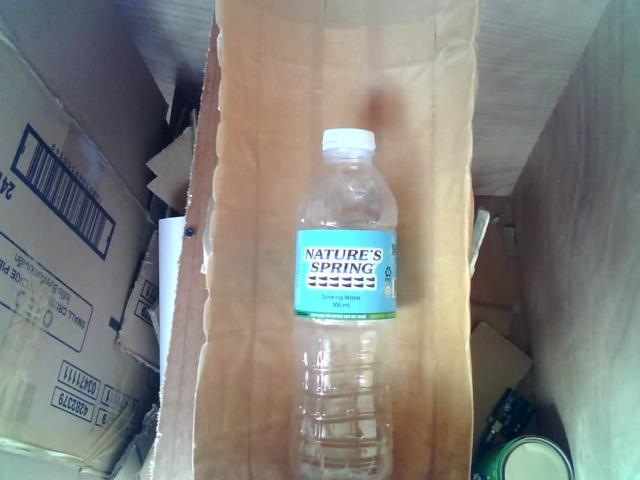small_bottle: (265, 117, 421, 480)
